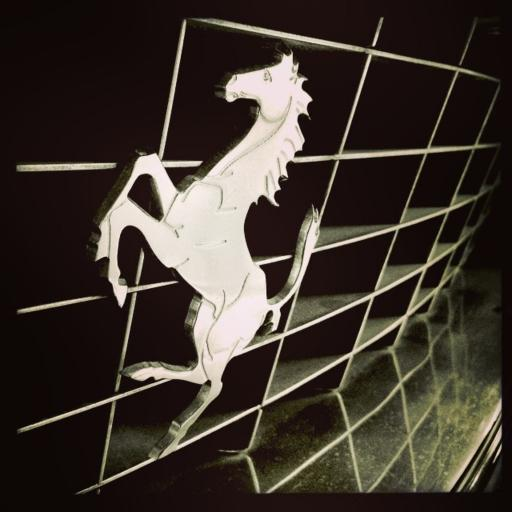horse: (86, 48, 320, 464)
